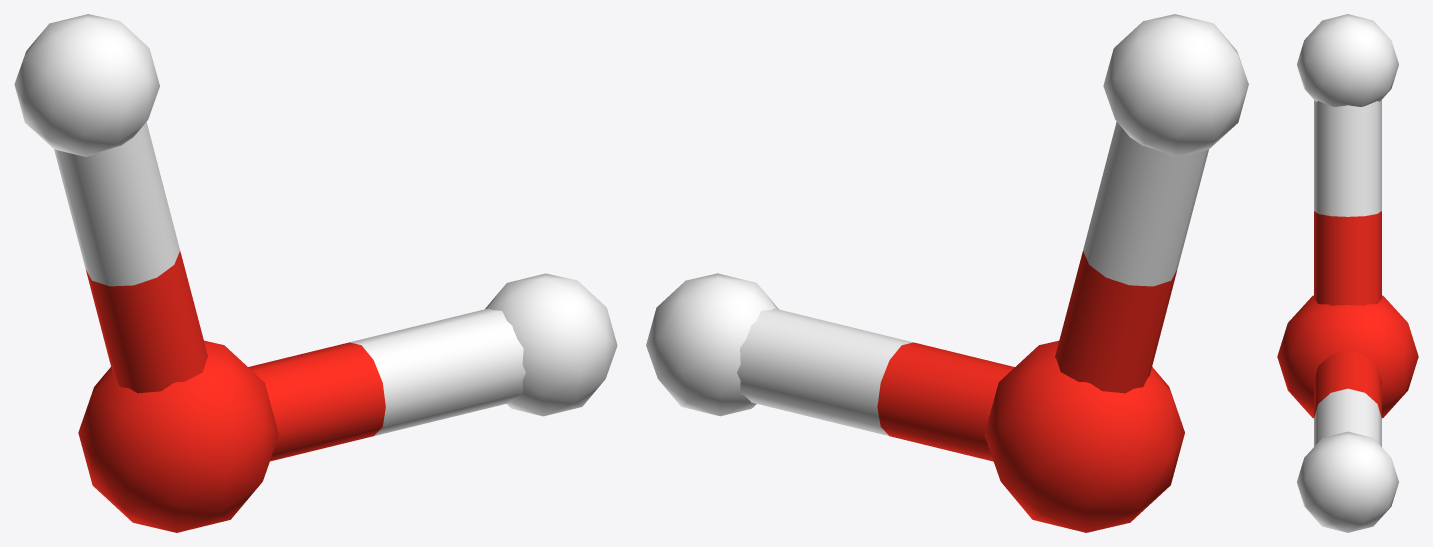
File: water-xyz-default.obj
3 renders of one model, left to right at view 1: azimuth 30°, elevation 25°; view 2: azimuth 150°, elevation 25°; view 3: azimuth 270°, elevation 25°, orthographic. The views are drawn at different scales.
Bounding box in the file's own units: 1.53 × 1.32 × 0.456.
